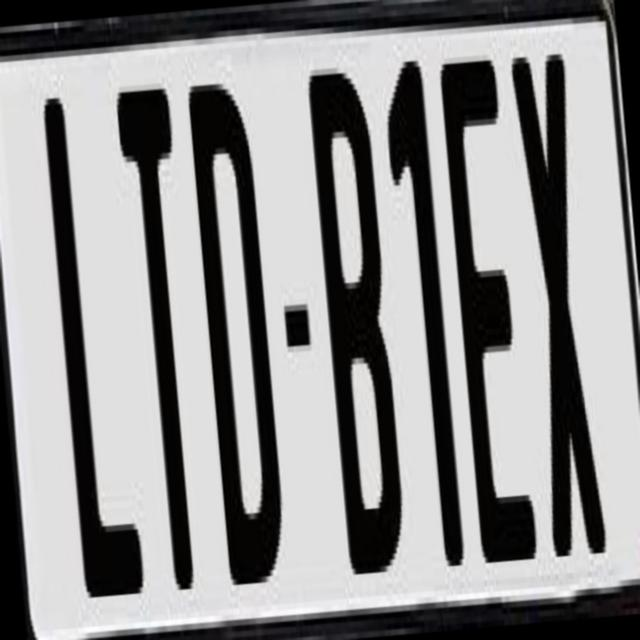1: (381, 54, 472, 562)
B: (300, 54, 402, 568)
D: (186, 64, 295, 574)
E: (438, 59, 546, 592)
L: (41, 94, 150, 626)
T: (110, 88, 210, 597)
X: (504, 42, 602, 546)
